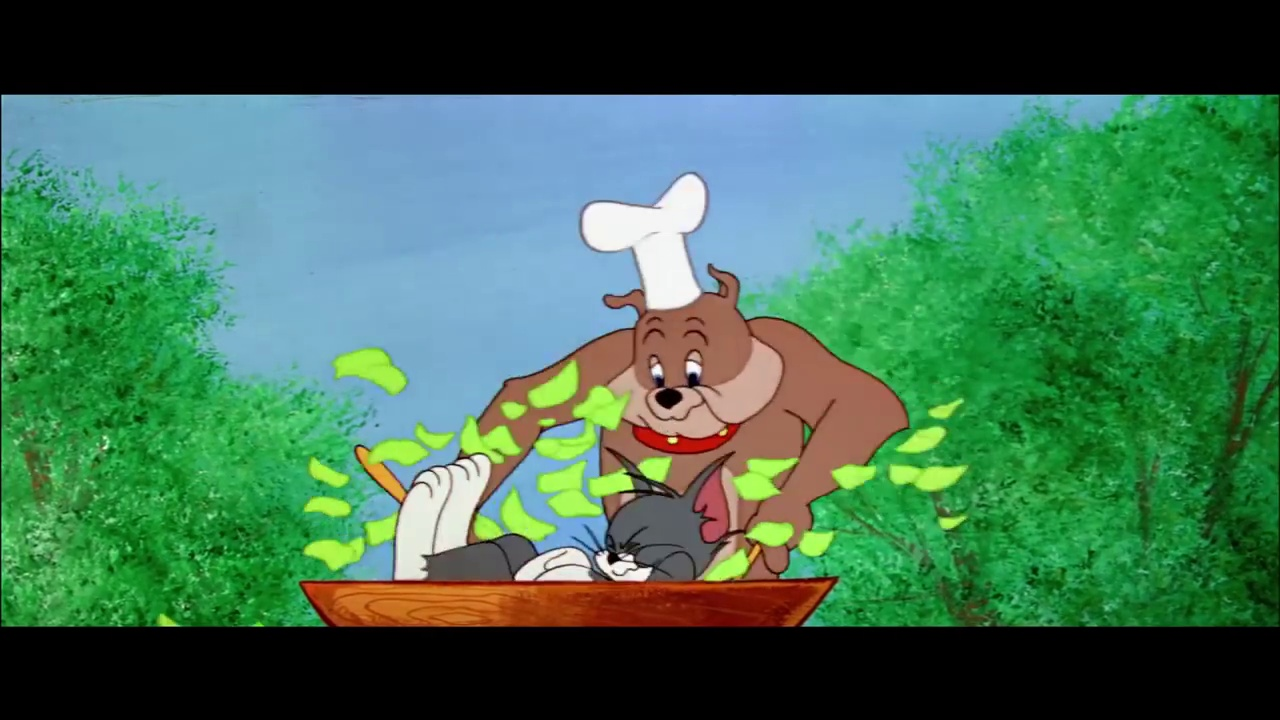spike: (602, 265, 790, 454)
tom: (592, 445, 734, 584)
